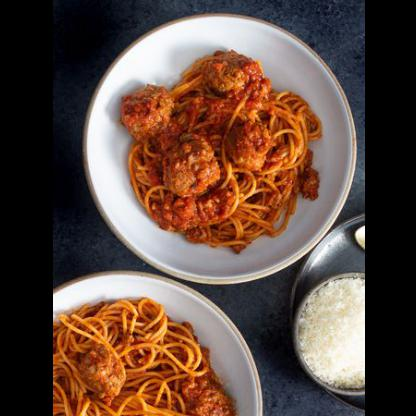spaghetti: (120, 50, 322, 254), (53, 298, 236, 415)
white rice: (299, 278, 365, 388)
